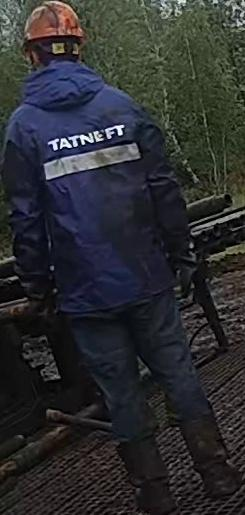gloves: (18, 259, 59, 326), (165, 240, 196, 299)
helmet: (16, 5, 85, 60)
vest: (2, 61, 190, 313)
